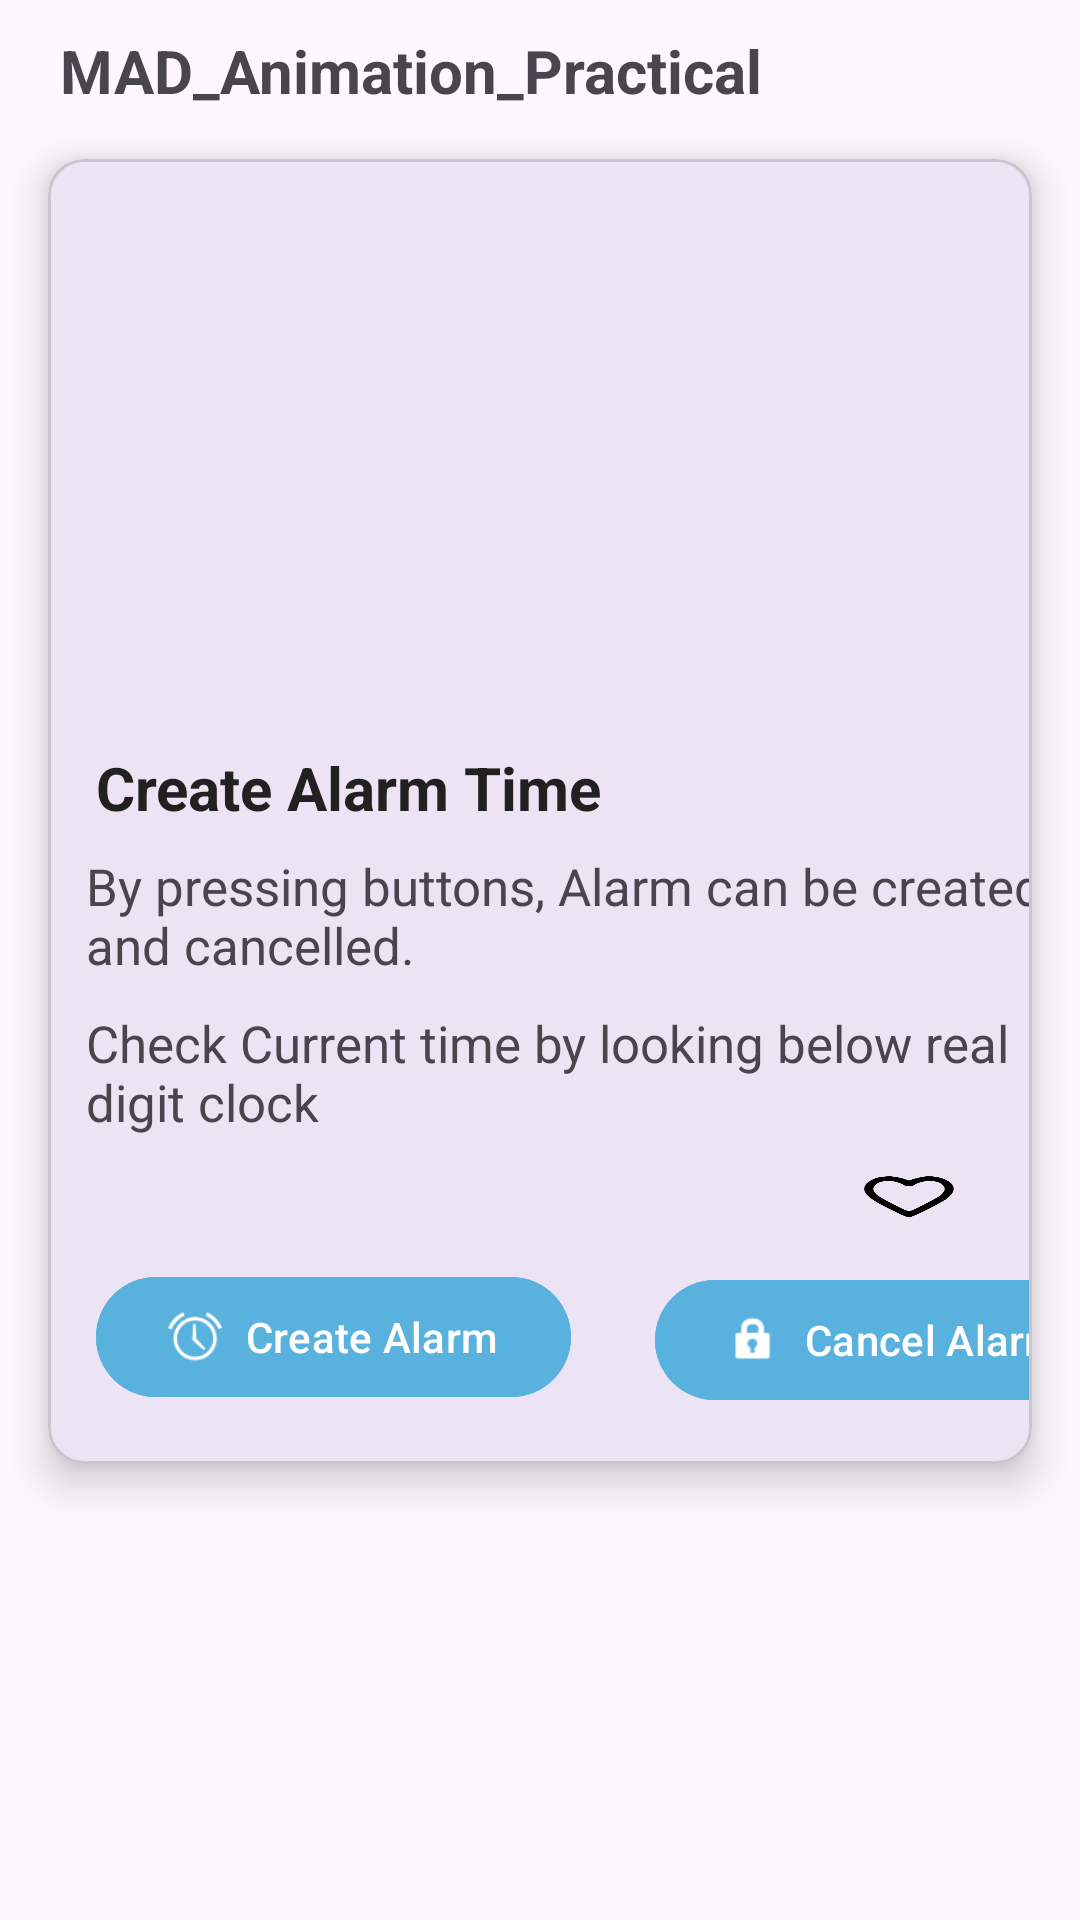

Icons on this 1080x1920 Android screen, each with the point to tap as point (x, y):
heart animation list: point (909, 1196)
